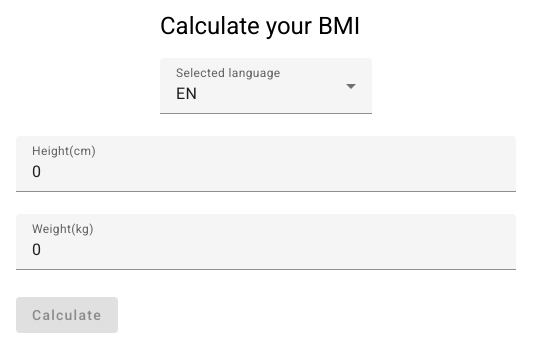
Test: My First Test › should calculate the BMI correctly
Click the dropdown labelled "EN". click: coordinates (187, 93)
box: [176,82,356,106]
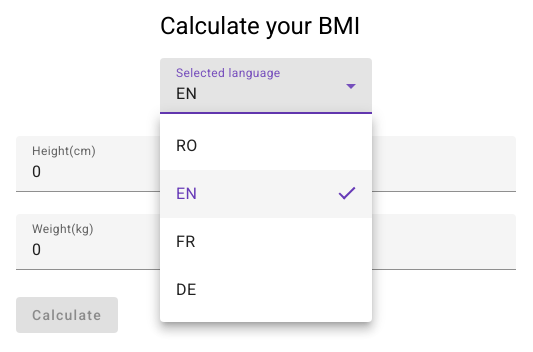
Click the option "FR". click: coordinates (186, 242)
box: [176,232,196,251]
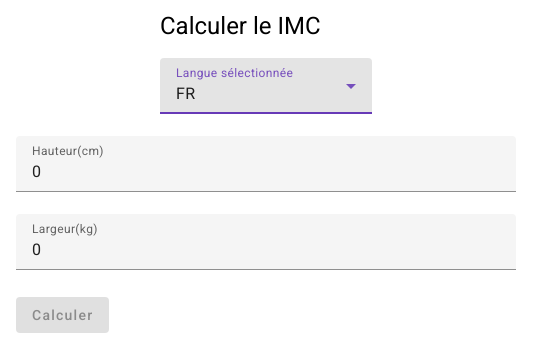
Replace the text in the number field labelled "Hauteur(cm)" with "183". click: coordinates (266, 172)
box: [32,160,500,184]
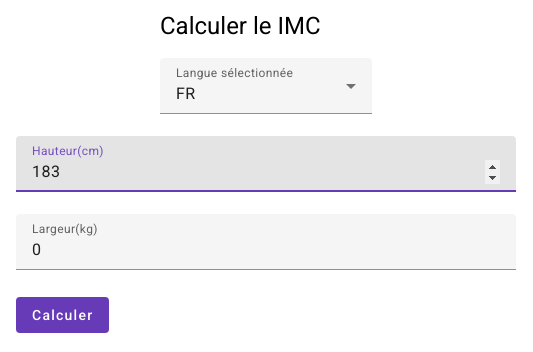
Replace the text in the number field labelled "Largeur(kg)" with "89". click: coordinates (266, 250)
box: [32,238,500,262]
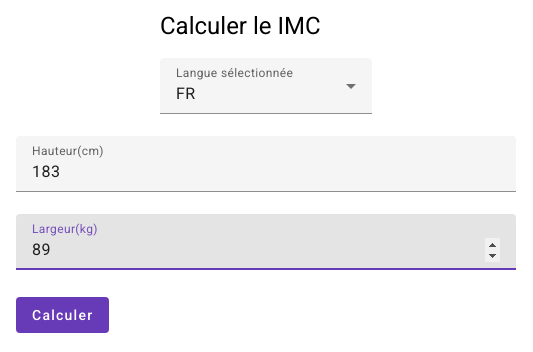
Click the button "Calculer". click: coordinates (63, 315)
box: [16,297,109,333]
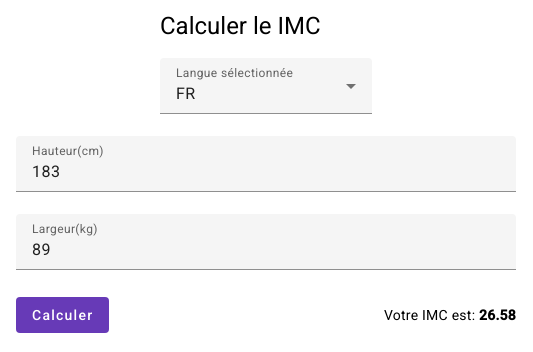
Result: the text "26.58" is shown at [479,306,516,322]
